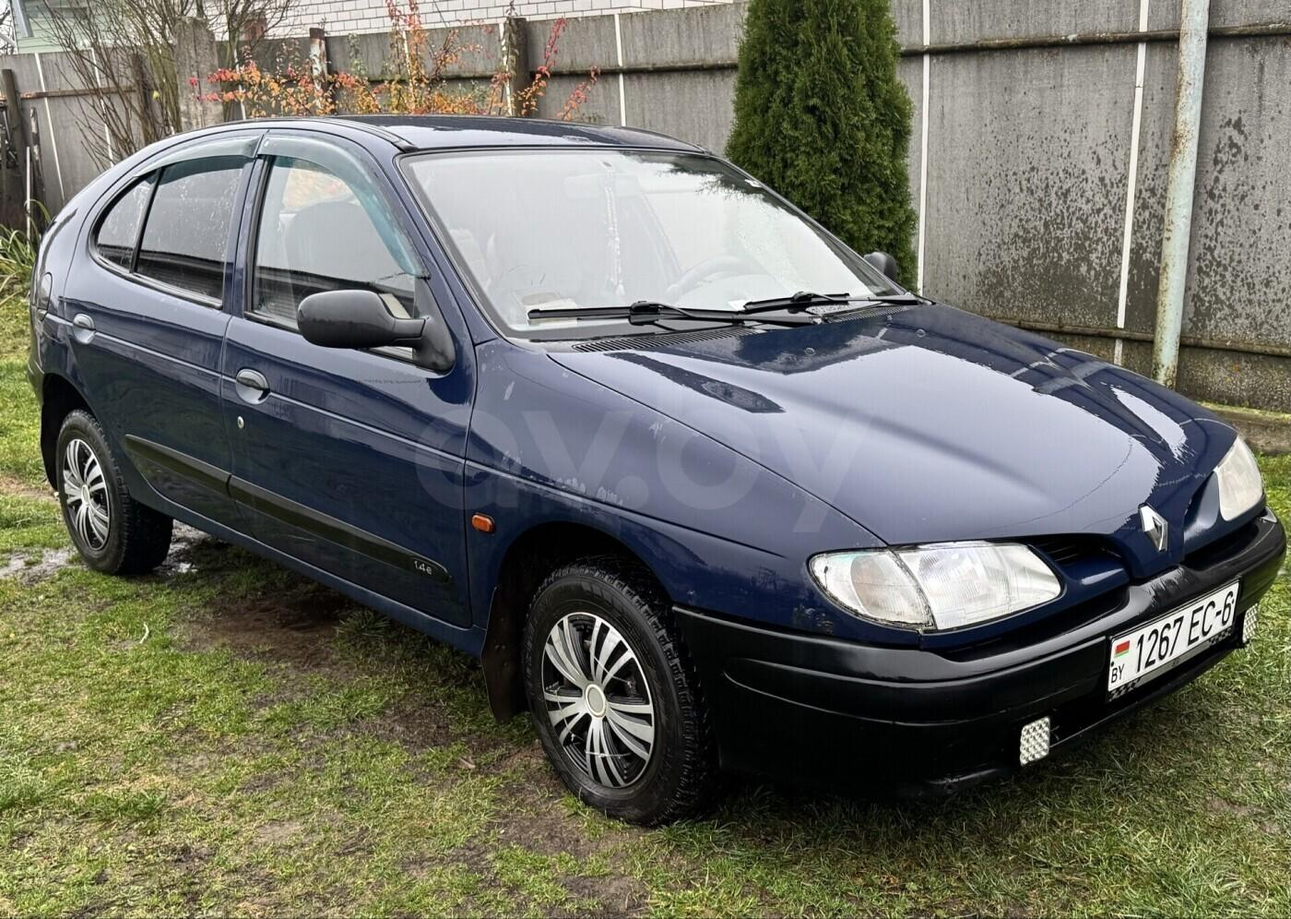Megane_1995-1999: (30, 112, 1291, 835)
